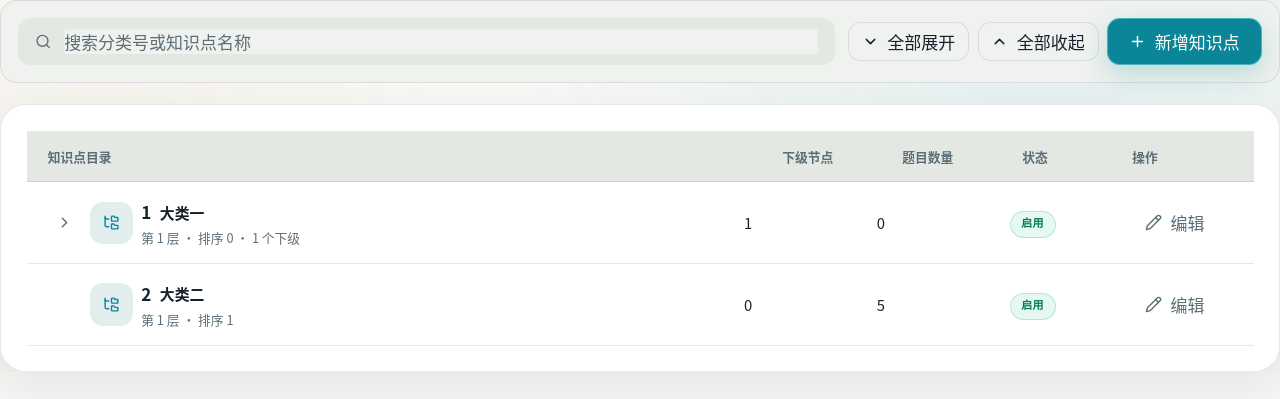
KnowledgeManager › search reveals matching child nodes together with their ancestors
The image size is (1280, 399).
In the field with placeholder "搜索分类号或知识点名称": [441, 41] box [64,29,818,54], type "小类一"
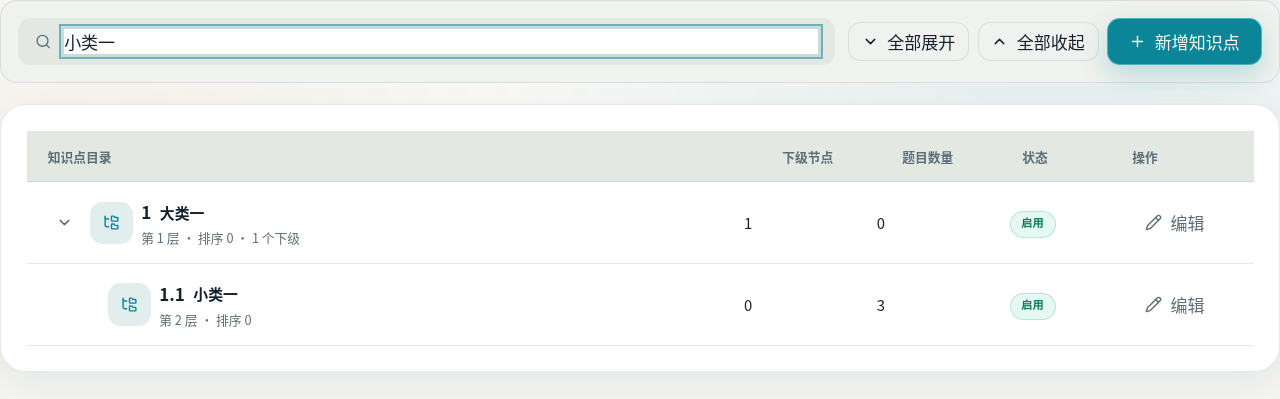
Expected: the text "大类一" is shown, [160,202,204,223]
Expected: the text "小类一" is shown, [193,283,238,305]
Expected: the text "大类二" is gone
